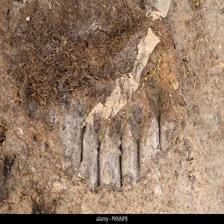bear: (50, 52, 178, 194)
